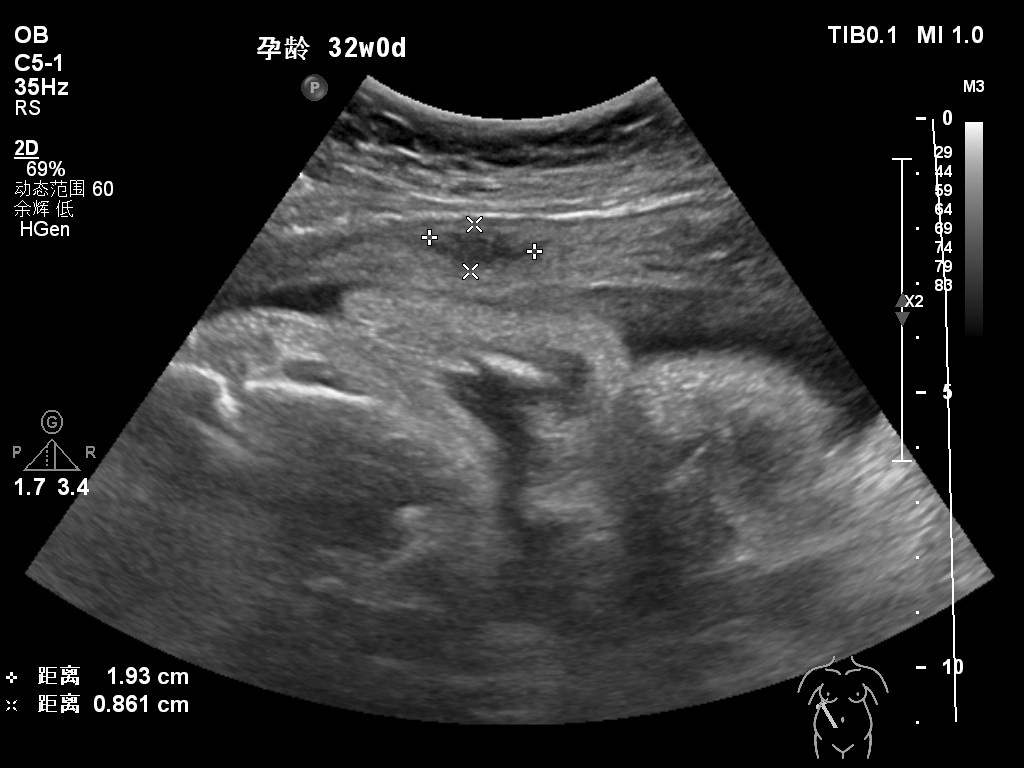肌瘤: (429, 227, 538, 271)
